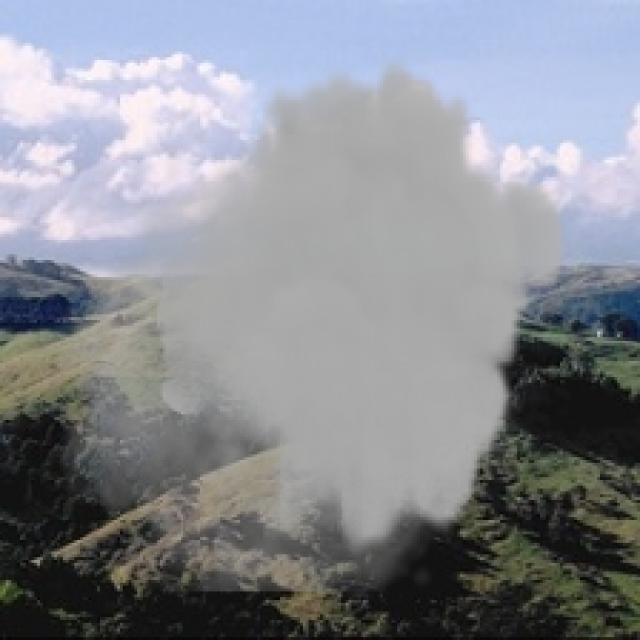smoke: (43, 57, 571, 592)
